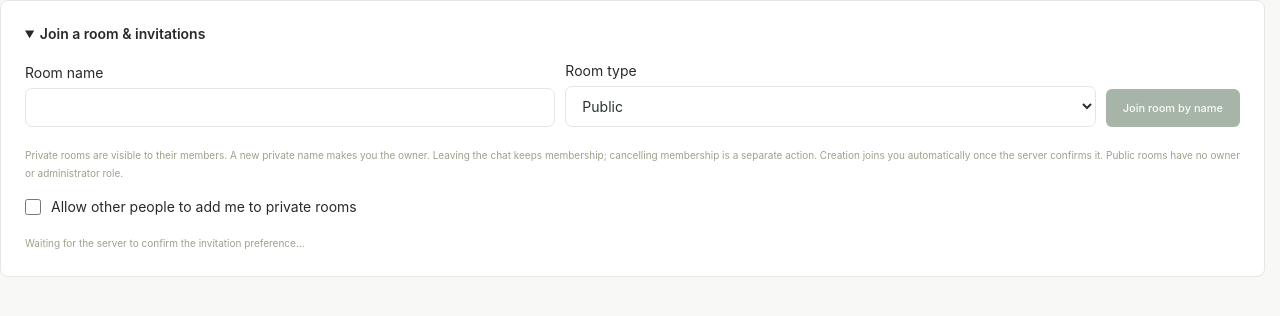
Test case: waits for actual membership then opens the created room automatically
Type "Club" into the field named "Room name to join". click: (290, 108)
box: [25,88,555,127]
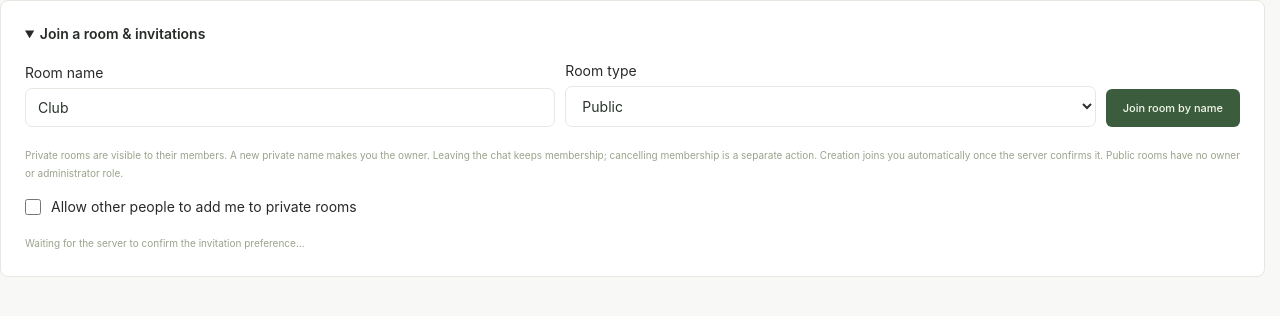
Select "Private" in the dropdown labelled "Room type". click: (831, 106)
box: [565,86,1096,127]
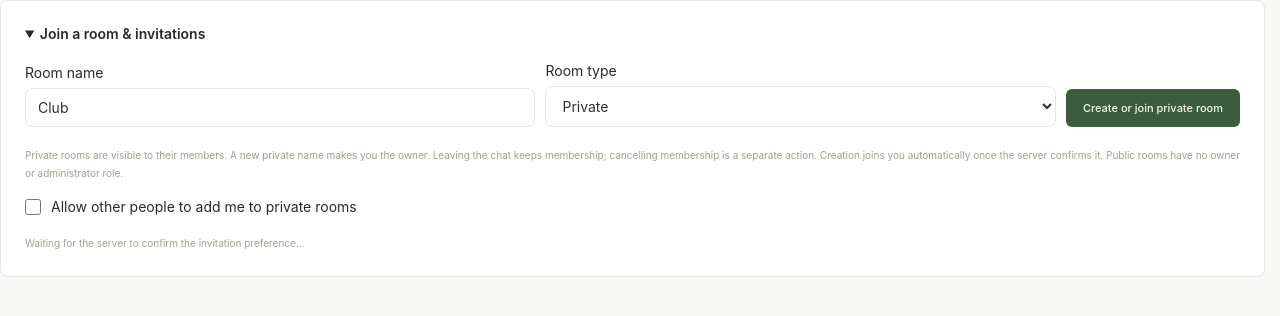
Click the button "Create or join private room". click: (1153, 108)
box: [1066,89,1240,127]
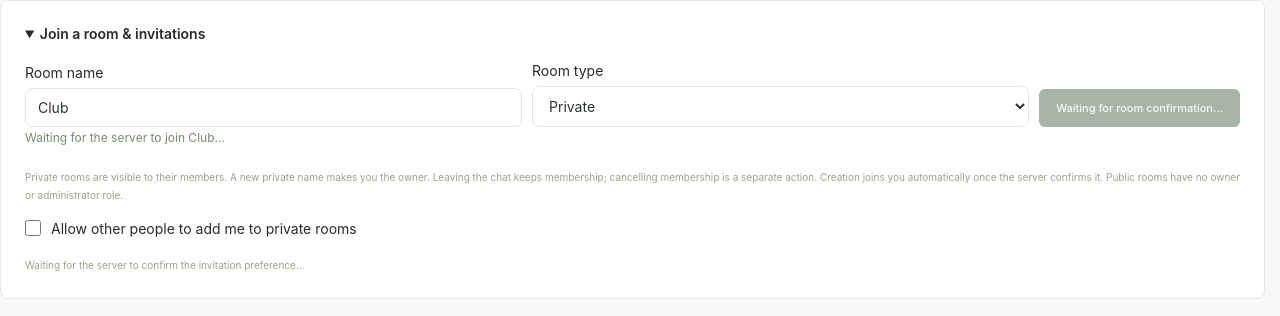
Result: the button "Waiting for room confirmation…" is disabled at [1039,89,1240,127]
